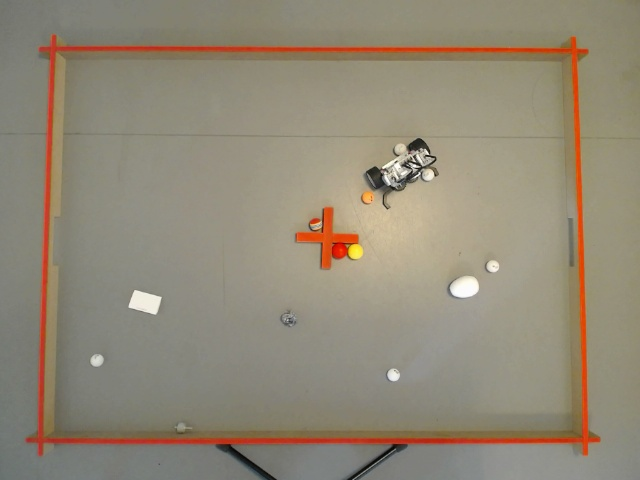big_goal: (42, 213, 62, 266), (568, 216, 582, 267)
cross: (296, 206, 360, 267)
egg: (451, 276, 478, 297)
orange: (362, 194, 372, 203)
robot: (364, 137, 437, 210)
wall: (38, 33, 66, 456), (561, 36, 588, 453), (38, 45, 588, 63), (26, 429, 598, 444)
white: (90, 356, 103, 366), (388, 369, 398, 381), (422, 170, 432, 180), (488, 261, 498, 270), (396, 144, 404, 152)
